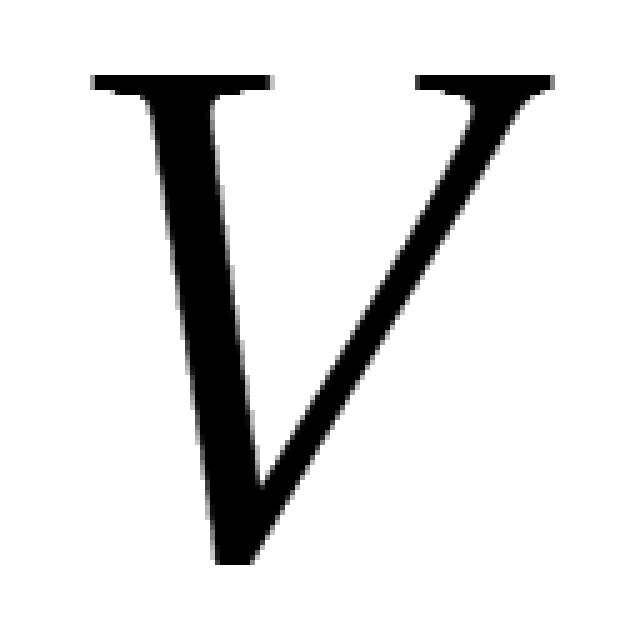V: (80, 55, 560, 565)
